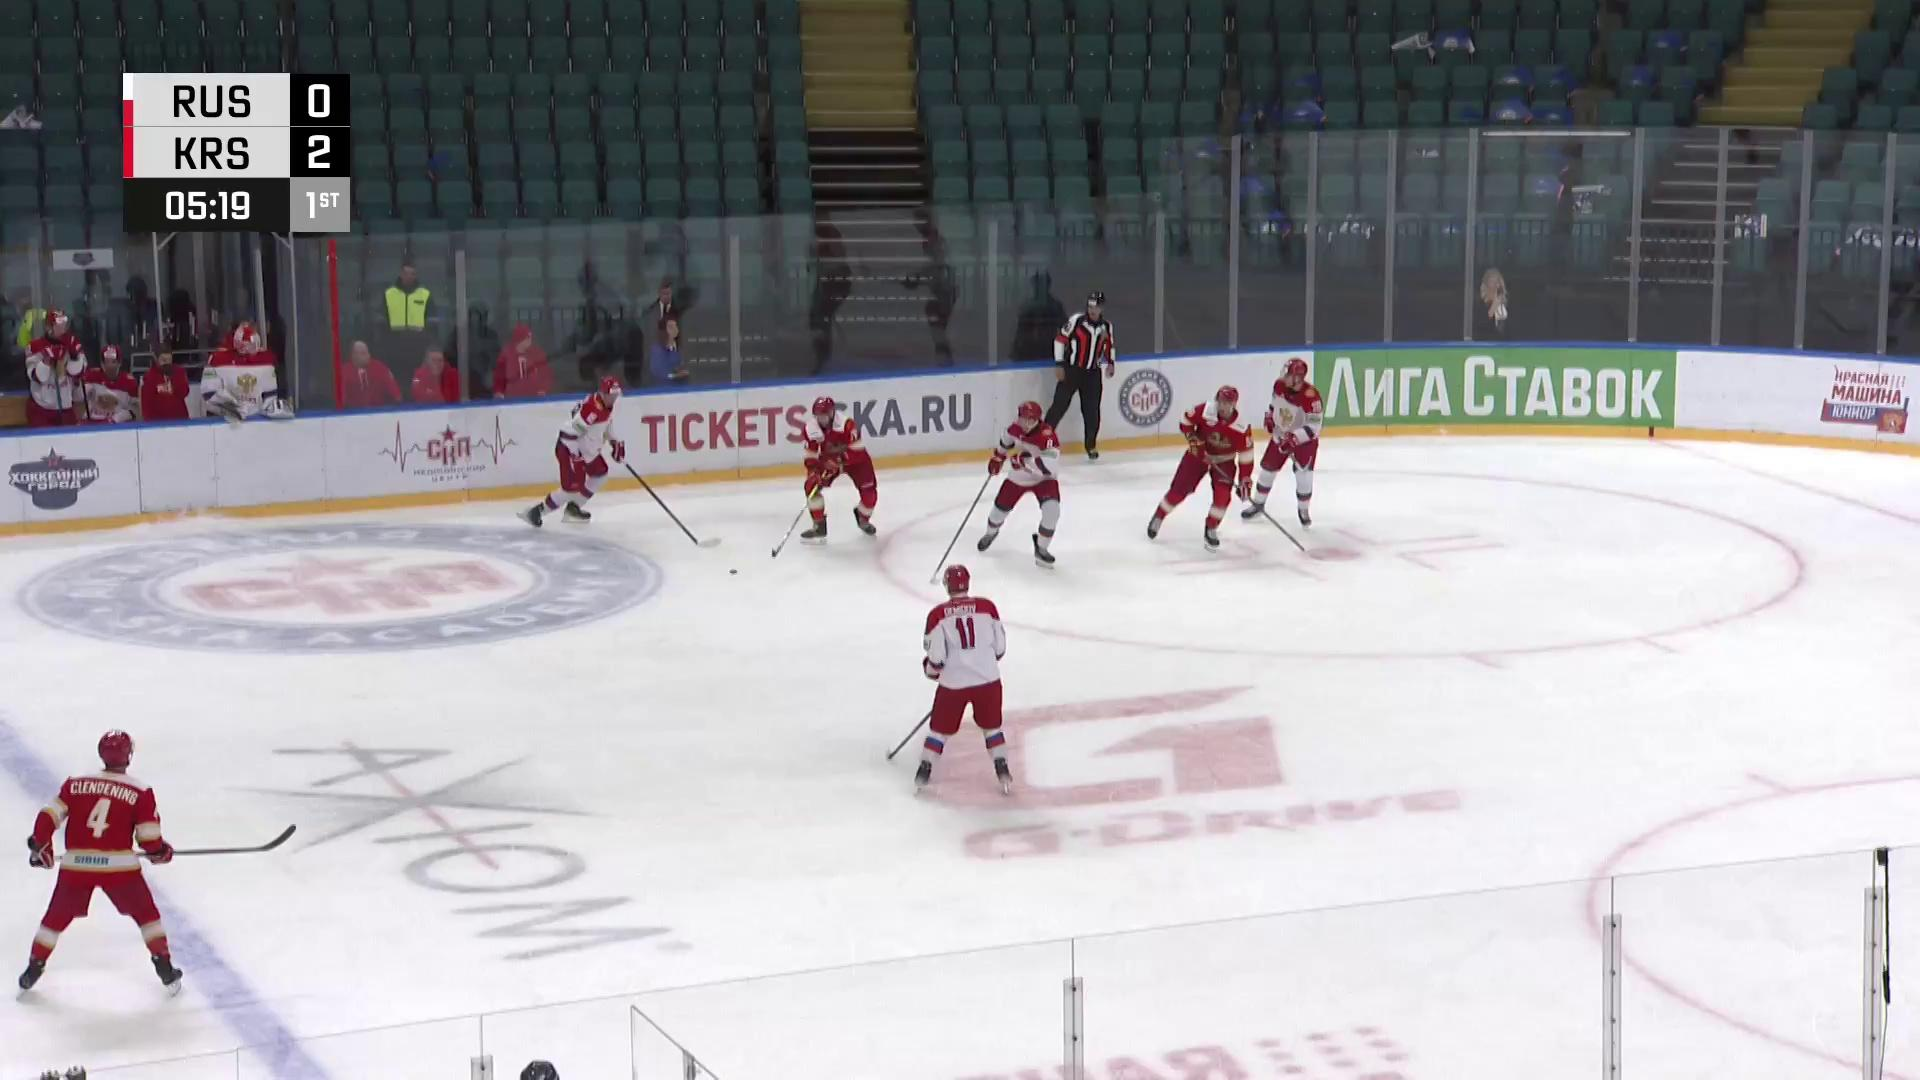ball: (727, 567, 741, 575)
